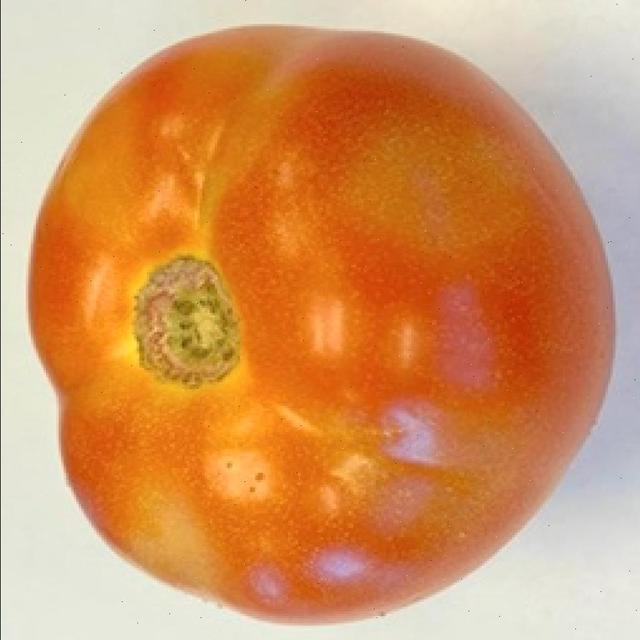Spotted wilt Virus Fruit: (16, 103, 58, 419)
